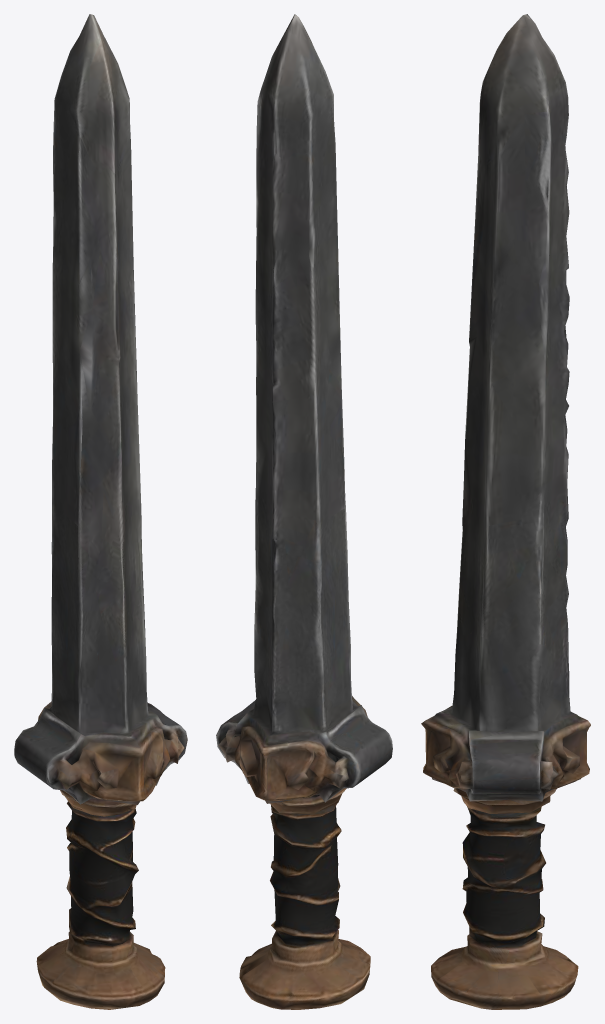
Rendered from prop_kiem_thiet.055c61639c.glb.
3 renders of one model, left to right at view 1: azimuth 30°, elevation 25°; view 2: azimuth 150°, elevation 25°; view 3: azimuth 270°, elevation 25°, orthographic.
Parts seen in each view (by area): view 1: prop_kiem_thiet; view 2: prop_kiem_thiet; view 3: prop_kiem_thiet.
Part boxes in pixels (x1,y1,x2,y2): prop_kiem_thiet: (14,14,187,1009); prop_kiem_thiet: (216,14,392,1009); prop_kiem_thiet: (421,14,590,1009).
Bounding box in the file's own units: 0.1464 × 0.95 × 0.1505.
1 material, 1 textured.
